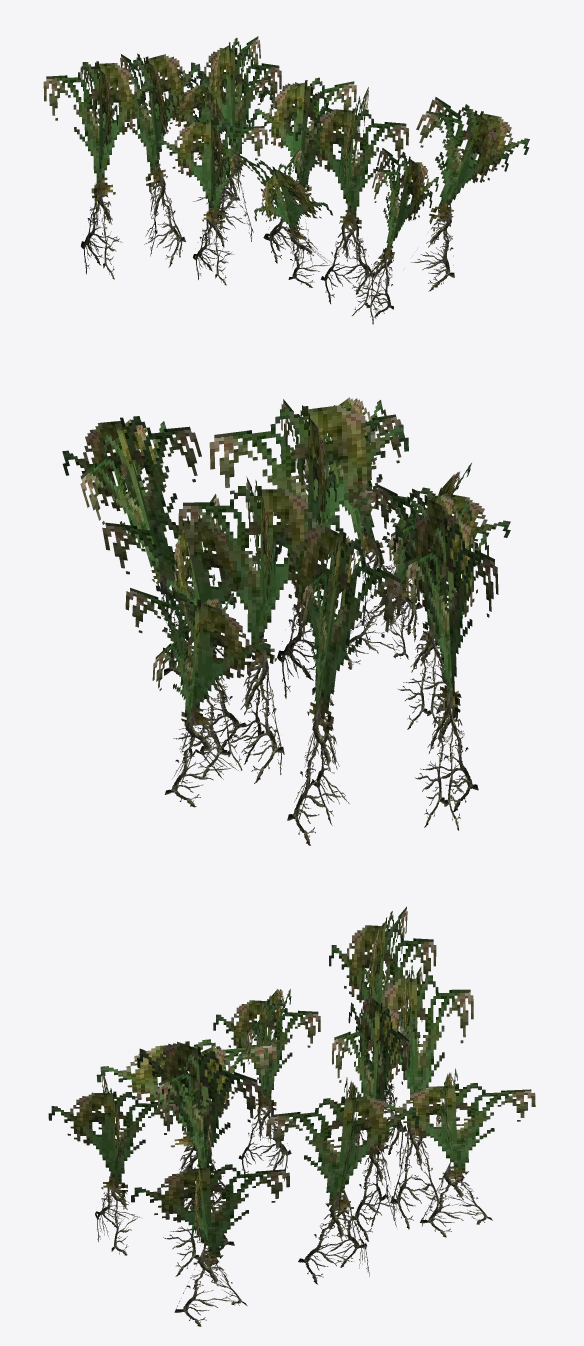
File: NW_NATURE_PLANT_01.glb
3 views of the same model, one above another, from view 1: azimuth 30°, elevation 25°; view 2: azimuth 150°, elevation 25°; view 3: azimuth 270°, elevation 25° (orthographic). The views are drawn at different scales.
Visible parts, largest first — view 1: Mesh; view 2: Mesh; view 3: Mesh.
Part boxes in pixels (bbox=[...]): Mesh: bbox=[43, 36, 529, 324]; Mesh: bbox=[62, 397, 510, 845]; Mesh: bbox=[48, 906, 535, 1326].
Bounding box in the file's own units: 3.37 × 1.67 × 3.11.
2 materials, 2 textured.
